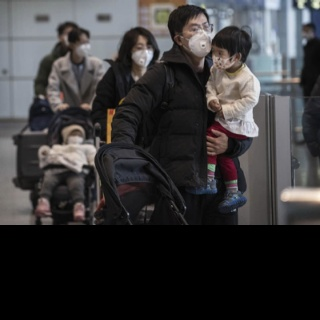with_mask: (183, 20, 213, 57), (131, 40, 154, 68), (210, 45, 232, 69), (75, 38, 92, 56), (68, 131, 84, 145)
